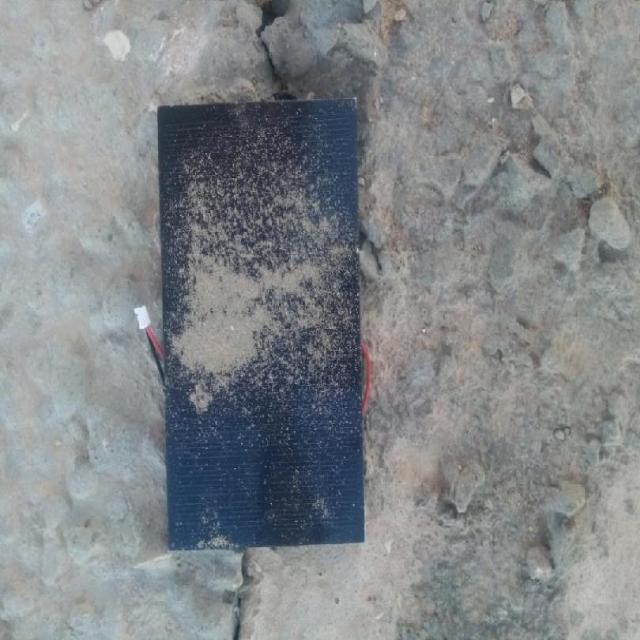faulty: (145, 93, 369, 540)
